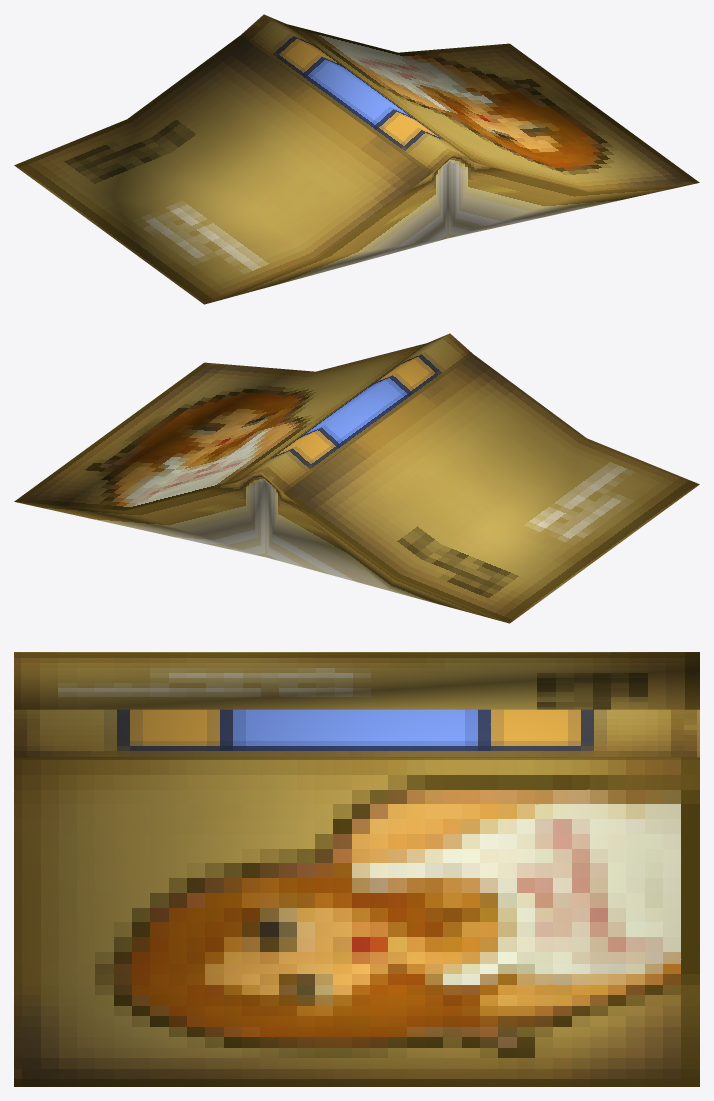
Rendered from a_SWFbook02.glb.
The picture shows the model from 3 angles, top to bottom: view 1: azimuth 30°, elevation 25°; view 2: azimuth 150°, elevation 25°; view 3: azimuth 270°, elevation 25°; orthographic projection. The views are drawn at different scales.
Parts seen in each view (by area): view 1: a_SWFbook02; view 2: a_SWFbook02; view 3: a_SWFbook02.
Boxes of the visible parts, <box> form: a_SWFbook02: <box>14,14,699,304</box>; a_SWFbook02: <box>14,333,699,623</box>; a_SWFbook02: <box>14,652,699,1086</box>.
Bounding box in the file's own units: 0.7894 × 0.137 × 0.5246.
Materials: 1 (1 with a texture image).
